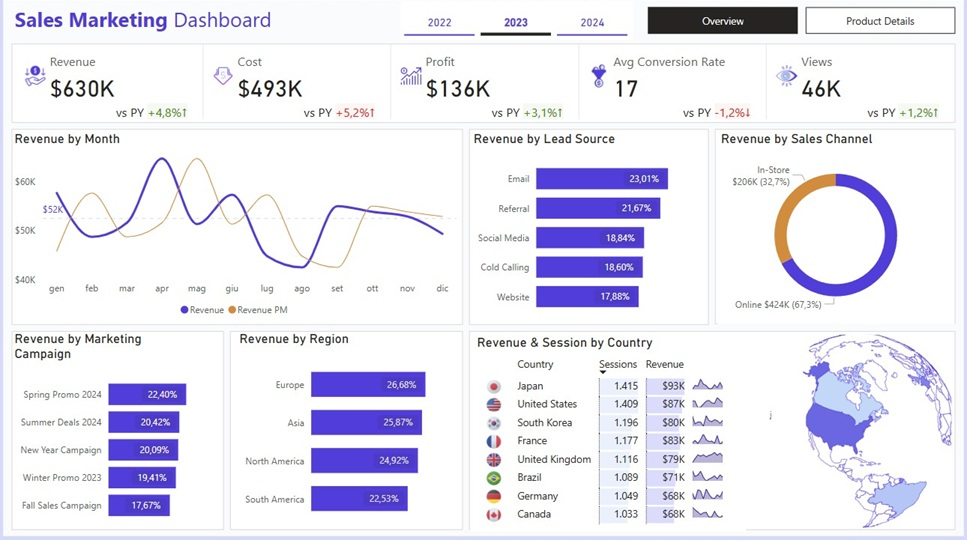

The page's visual inventory and layout, read from the dashboard file:
{"tool":"powerbi","page":{"name":"Overview","canvas":[1280,720],"ordinal":0},"visuals":[{"type":"advancedSlicerVisual","fields":{"Values":["Calendar.Year"]},"box":[532.5,9.8,304.3,50.3],"z":0},{"type":"cardVisual","fields":{"Data":["All Measures.Revenue","All Measures.Cost","All Measures.Profit","All Measures.Avg Conversion Rate","All Measures.Views"]},"box":[22.5,59.9,1235.3,109.8],"z":1000},{"type":"lineChart","title":" Revenue by Month","fields":{"Y":["All Measures.Revenue","All Measures.Revenue PM"],"Category":["Calendar.Month"]},"box":[22.5,179.7,589,253.3],"z":2000},{"type":"clusteredBarChart","title":"Revenue by Lead Source","fields":{"Y":["All Measures.Revenue"],"Category":["dimLeadSource.Lead Source"]},"box":[623.9,179.7,312,253.3],"z":3000},{"type":"donutChart","fields":{"Y":["All Measures.Revenue"],"Category":["dimChannel.Sales Channel"]},"box":[947.1,179.7,310.7,253.3],"z":4000},{"type":"clusteredBarChart","title":"Revenue by Marketing Campaign","fields":{"Y":["All Measures.Revenue"],"Category":["dimMarketingCampaign.Marketing Campaign"]},"box":[22.5,441.7,278.3,263.3],"z":5000},{"type":"clusteredBarChart","title":"Revenue by Region","fields":{"Y":["All Measures.Revenue"],"Category":["dimCountry.Region"]},"box":[316.9,441.7,294.5,263.3],"z":6000},{"type":"tableEx","fields":{"Values":["dimCountry.flag","dimCountry.Country","All Measures.Sessions","All Measures.Revenue","All Measures.Revenue Sparkline"]},"box":[623.9,469.2,361.9,235.8],"z":7000},{"type":"shapeMap","fields":{"Value":["All Measures.Revenue"],"Category":["dimCountry.Country"]},"box":[986,442,272,263],"z":8000},{"type":"textbox","box":[22.5,10,398.1,49.9],"z":9000},{"type":"textbox","box":[623.9,441.7,272,31.2],"z":10000},{"type":"pageNavigator","box":[856.4,17.2,403.7,35.6],"z":11000}]}

Visuals, with their boxes in screenshot pixels (x1, y1, x2, y2), scaled from the page's 1280x720 canvas onto the 967x540 screenshot:
advancedSlicerVisual - Calendar.Year: <region>402, 7, 632, 45</region>
cardVisual - All Measures.Revenue x All Measures.Cost: <region>17, 45, 950, 127</region>
" Revenue by Month" lineChart: <region>17, 135, 462, 325</region>
"Revenue by Lead Source" clusteredBarChart: <region>471, 135, 707, 325</region>
donutChart - All Measures.Revenue x dimChannel.Sales Channel: <region>716, 135, 950, 325</region>
"Revenue by Marketing Campaign" clusteredBarChart: <region>17, 331, 227, 529</region>
"Revenue by Region" clusteredBarChart: <region>239, 331, 462, 529</region>
tableEx - dimCountry.flag x dimCountry.Country: <region>471, 352, 745, 529</region>
shapeMap - All Measures.Revenue x dimCountry.Country: <region>745, 332, 950, 529</region>
textbox: <region>17, 8, 318, 45</region>
textbox: <region>471, 331, 677, 355</region>
pageNavigator: <region>647, 13, 952, 40</region>
